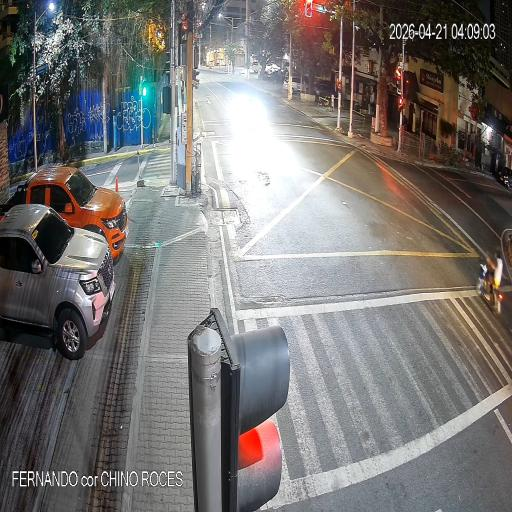Car: (0, 201, 119, 367), (0, 162, 130, 264), (280, 66, 307, 99)
Motor: (469, 232, 512, 322)
